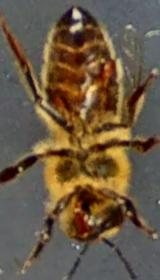varroa_mite: (96, 49, 120, 88), (42, 83, 68, 117)
